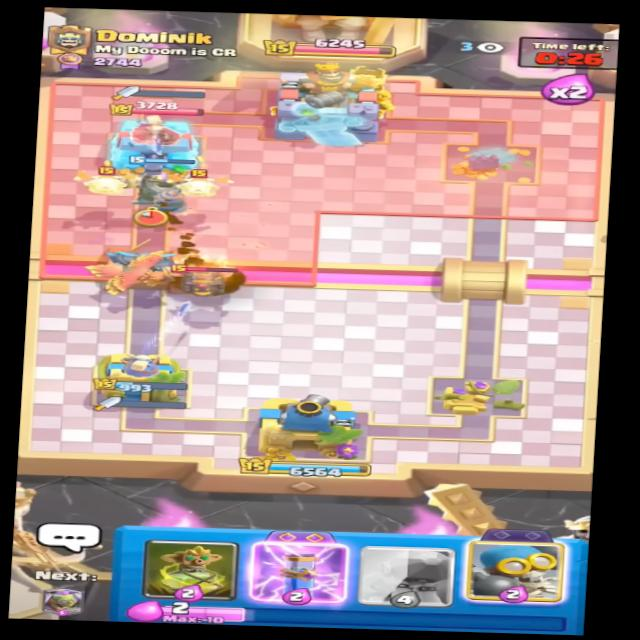lava-hound: (167, 254, 249, 300)
skeleton-dragon: (172, 167, 237, 201), (78, 164, 131, 198)
